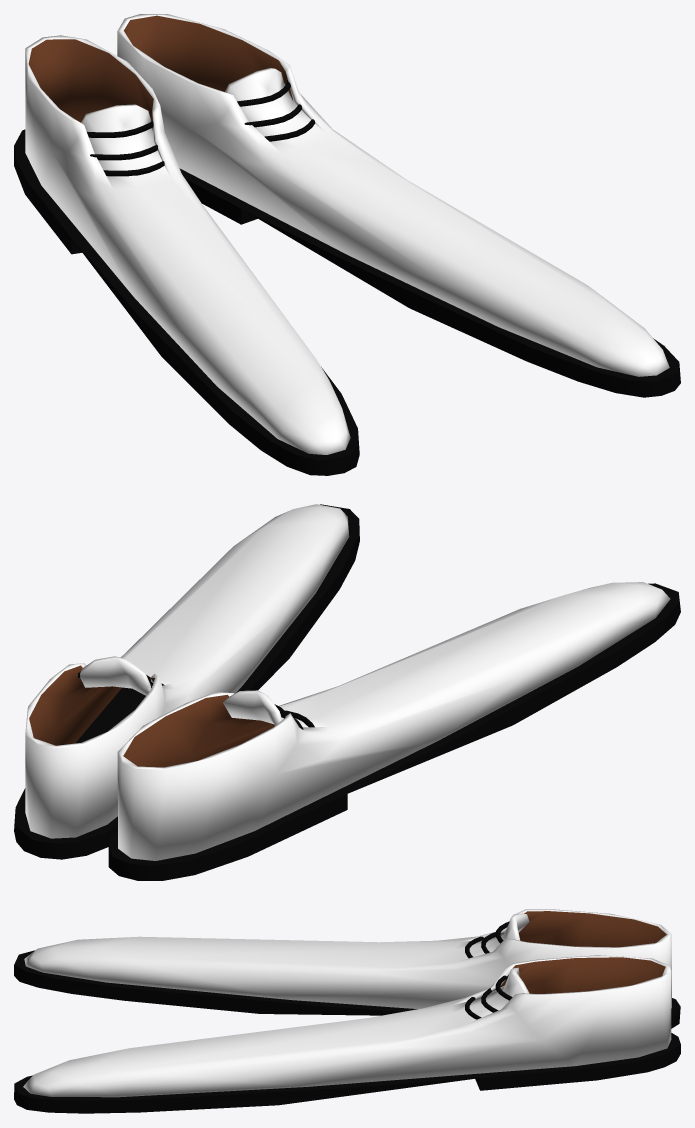
File: WhiteLongShoes.fbx
3 renders of one model, top to bottom at view 1: azimuth 30°, elevation 25°; view 2: azimuth 150°, elevation 25°; view 3: azimuth 270°, elevation 25°, orthographic. The views are drawn at different scales.
Parts seen in each view (by area): view 1: Shoe|ShoeBase|Dupli|, Shoe.001|ShoeBase|Dupli|, Shoe|ShoeSole|Dupli|1, Shoe.001|ShoeSole|Dupli|1; view 2: Shoe.001|ShoeBase|Dupli|, Shoe|ShoeBase|Dupli|, Shoe.001|ShoeSole|Dupli|1, Shoe|ShoeSole|Dupli|1; view 3: Shoe|ShoeBase|Dupli|, Shoe.001|ShoeBase|Dupli|, Shoe|ShoeSole|Dupli|1, Shoe.001|ShoeSole|Dupli|1.
Part boxes in pixels (x1=…): Shoe|ShoeBase|Dupli|: x1=117, y1=14, x2=669, y2=376; Shoe.001|ShoeBase|Dupli|: x1=25, y1=35, x2=350, y2=454; Shoe|ShoeSole|Dupli|1: x1=179, y1=168, x2=680, y2=397; Shoe.001|ShoeSole|Dupli|1: x1=14, y1=129, x2=359, y2=475; Shoe.001|ShoeBase|Dupli|: x1=117, y1=582, x2=670, y2=860; Shoe|ShoeBase|Dupli|: x1=25, y1=504, x2=349, y2=838; Shoe.001|ShoeSole|Dupli|1: x1=108, y1=583, x2=680, y2=880; Shoe|ShoeSole|Dupli|1: x1=14, y1=504, x2=359, y2=859; Shoe|ShoeBase|Dupli|: x1=23, y1=955, x2=671, y2=1097; Shoe.001|ShoeBase|Dupli|: x1=24, y1=909, x2=671, y2=1008; Shoe|ShoeSole|Dupli|1: x1=14, y1=1033, x2=680, y2=1113; Shoe.001|ShoeSole|Dupli|1: x1=14, y1=950, x2=680, y2=1028.
Size of the model in its own units: 775 by 218 by 1427.
